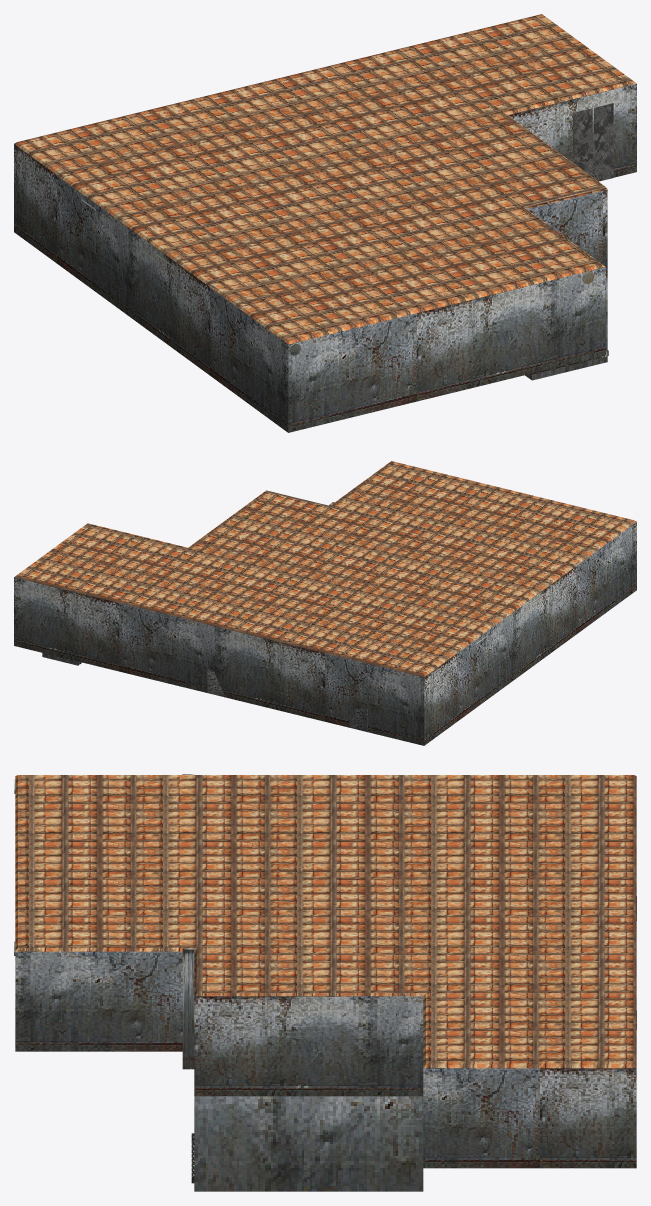
File: f1 indoor.glb
The picture shows the model from 3 angles, top to bottom: view 1: azimuth 30°, elevation 25°; view 2: azimuth 150°, elevation 25°; view 3: azimuth 270°, elevation 25°; orthographic projection. The views are drawn at different scales.
Visible parts, largest first — view 1: base room, Cube.019, Cube.026; view 2: base room, Cube.035; view 3: base room, Cube.004.
Part boxes in pixels (left/top/right/bottom): base room: left=14, top=14, right=636, bottom=432; Cube.019: left=594, top=103, right=613, bottom=181; Cube.026: left=573, top=108, right=592, bottom=176; base room: left=14, top=461, right=636, bottom=745; Cube.035: left=207, top=669, right=367, bottom=731; base room: left=15, top=775, right=636, bottom=1191; Cube.004: left=182, top=948, right=194, bottom=1069.
Bounding box in the file's own units: 37.13 × 11.71 × 33.44.
35 materials, 35 textured.
